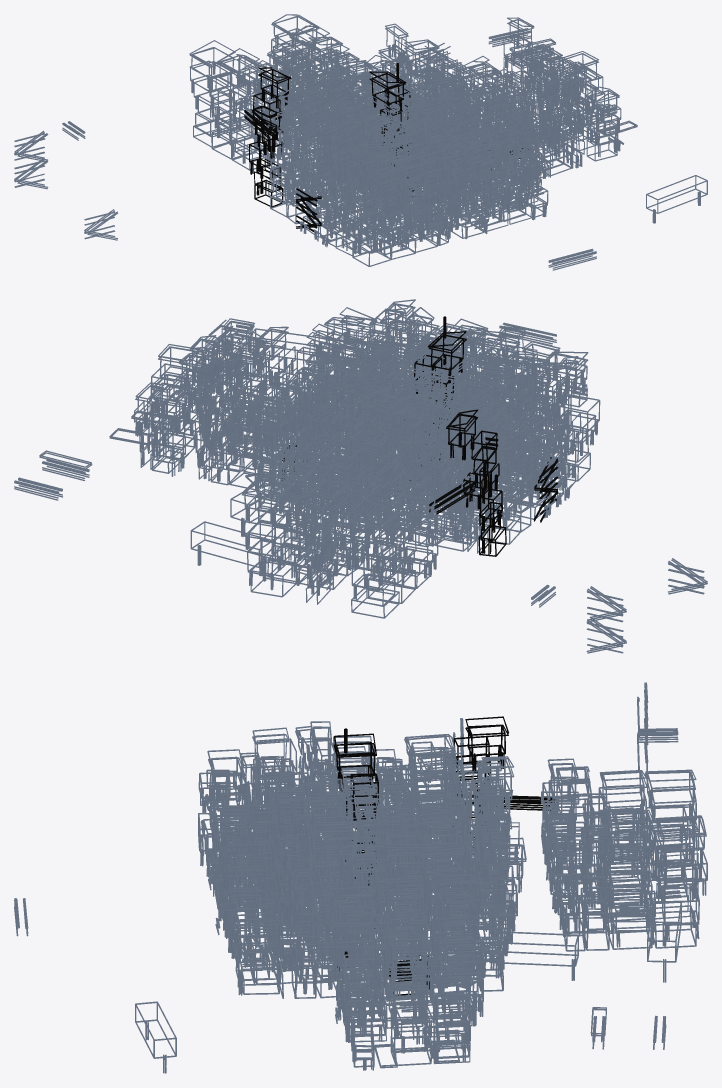
File: 码头居民区.fbx
3 views of the same model, one above another, from view 1: azimuth 30°, elevation 25°; view 2: azimuth 150°, elevation 25°; view 3: azimuth 270°, elevation 25° (orthographic). The views are drawn at different scales.
Visible parts, largest first — view 1: 描线_focus_码头居民区_暗, 描线_focus_码头居民区; view 2: 描线_focus_码头居民区_暗, 描线_focus_码头居民区; view 3: 描线_focus_码头居民区_暗, 描线_focus_码头居民区.
Boxes of the visible parts, x1,y1,x2,y2 form: 描线_focus_码头居民区_暗: (14,14,707,270); 描线_focus_码头居民区: (244,63,528,233); 描线_focus_码头居民区_暗: (14,299,707,653); 描线_focus_码头居民区: (282,316,558,556); 描线_focus_码头居民区_暗: (14,682,707,1073); 描线_focus_码头居民区: (333,716,554,995).
Size of the model in its own units: 12103 by 3357 by 10607.
